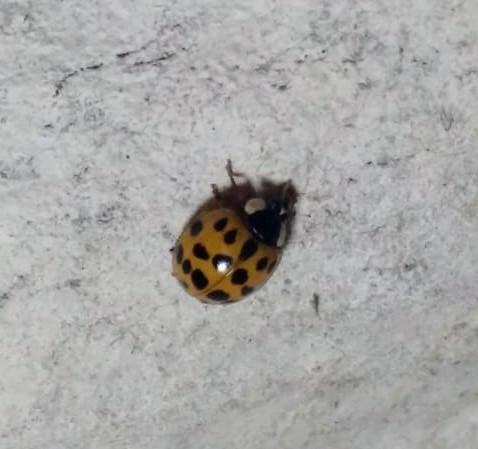ladybug: (170, 156, 302, 307)
